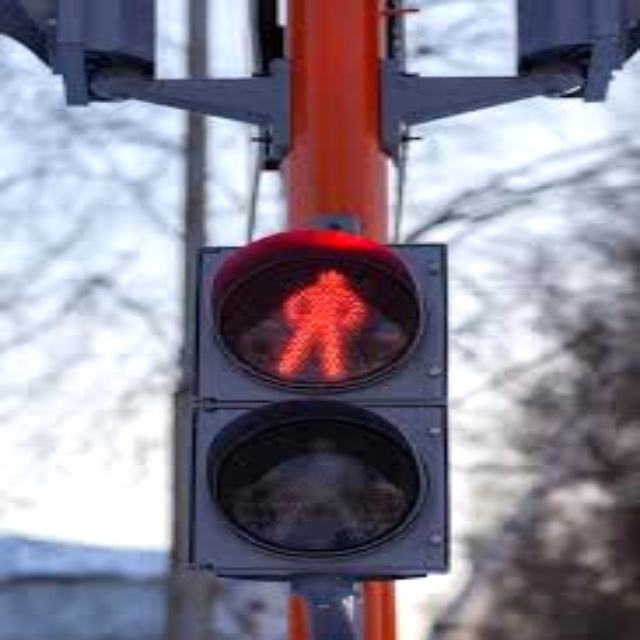red_light: (268, 265, 368, 378)
